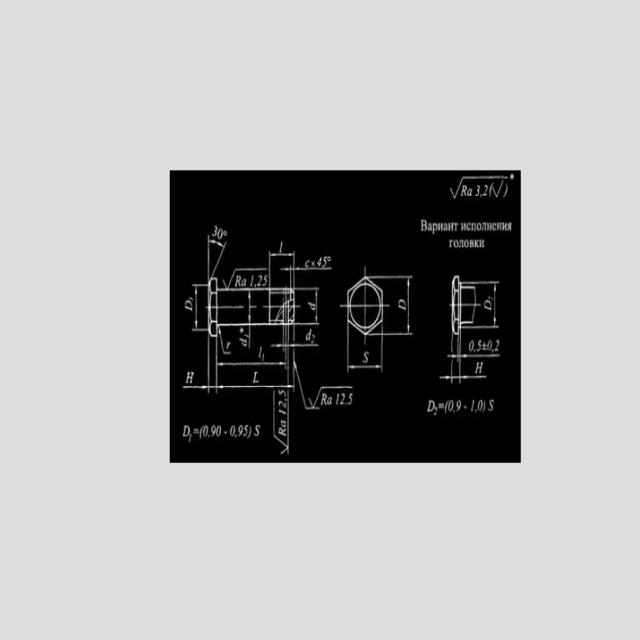marking_line: (182, 347, 295, 391), (439, 335, 488, 386), (215, 338, 291, 368), (383, 276, 413, 335), (294, 347, 320, 411), (182, 336, 210, 392), (447, 335, 501, 363), (346, 336, 384, 373), (476, 281, 500, 330), (279, 267, 333, 288), (295, 288, 319, 327), (269, 251, 295, 287), (206, 236, 226, 276), (192, 283, 207, 334), (213, 338, 219, 394), (247, 292, 251, 323)
numeric: (334, 392, 340, 406), (494, 338, 500, 352), (262, 274, 268, 287), (254, 425, 260, 438), (448, 399, 454, 412), (217, 228, 223, 240), (212, 225, 218, 237), (230, 425, 236, 437), (469, 340, 475, 352), (475, 183, 480, 197), (483, 183, 488, 196), (257, 274, 262, 287), (203, 424, 208, 437), (243, 425, 248, 438), (477, 339, 482, 352), (340, 393, 345, 405), (211, 424, 216, 436), (238, 425, 243, 437), (456, 400, 461, 412), (278, 390, 286, 397), (278, 401, 286, 408), (488, 340, 493, 351), (478, 400, 483, 411), (348, 393, 352, 406), (249, 274, 253, 286), (217, 425, 221, 437), (279, 409, 287, 415), (323, 257, 328, 266), (311, 335, 316, 344), (317, 258, 322, 267), (471, 400, 475, 411), (188, 297, 193, 301)
special_symbol: (448, 174, 509, 200), (220, 267, 267, 289), (309, 386, 353, 408), (272, 391, 287, 454), (218, 328, 231, 356), (492, 179, 504, 198), (199, 425, 204, 440), (247, 425, 252, 439), (223, 229, 229, 236), (194, 428, 199, 434), (510, 173, 514, 180), (327, 256, 332, 261), (239, 327, 243, 333), (254, 283, 257, 288)
